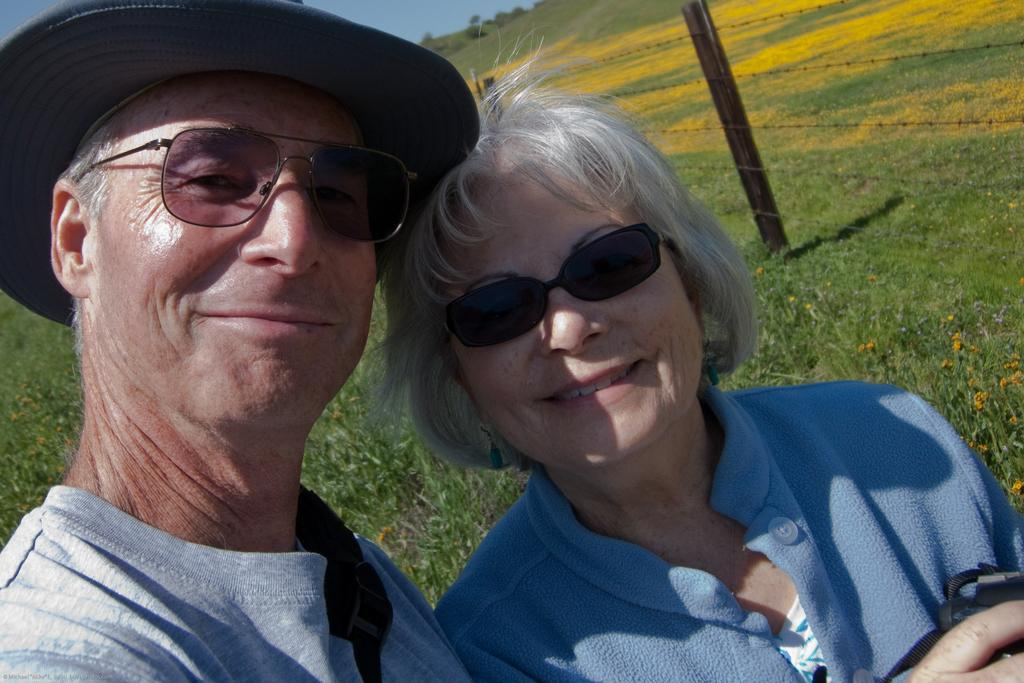Hat: (0, 0, 480, 325)
